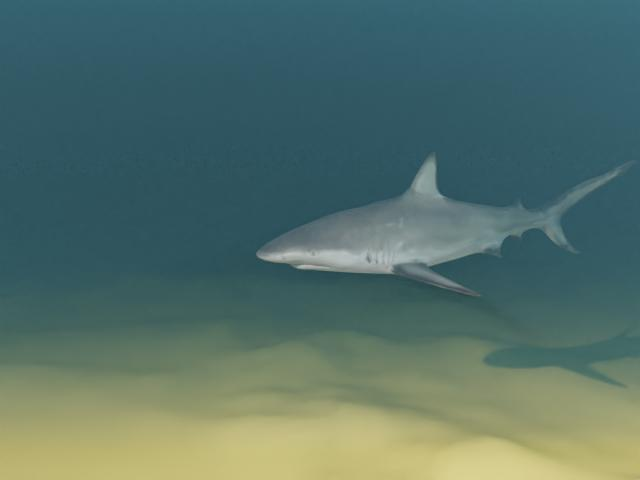Carribean Shark.001: (256, 151, 637, 296)
